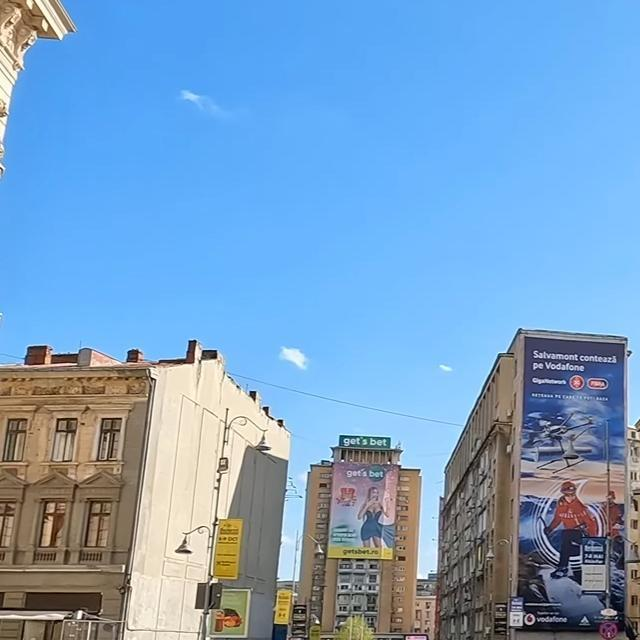forb_waiting: (599, 622, 617, 640)
